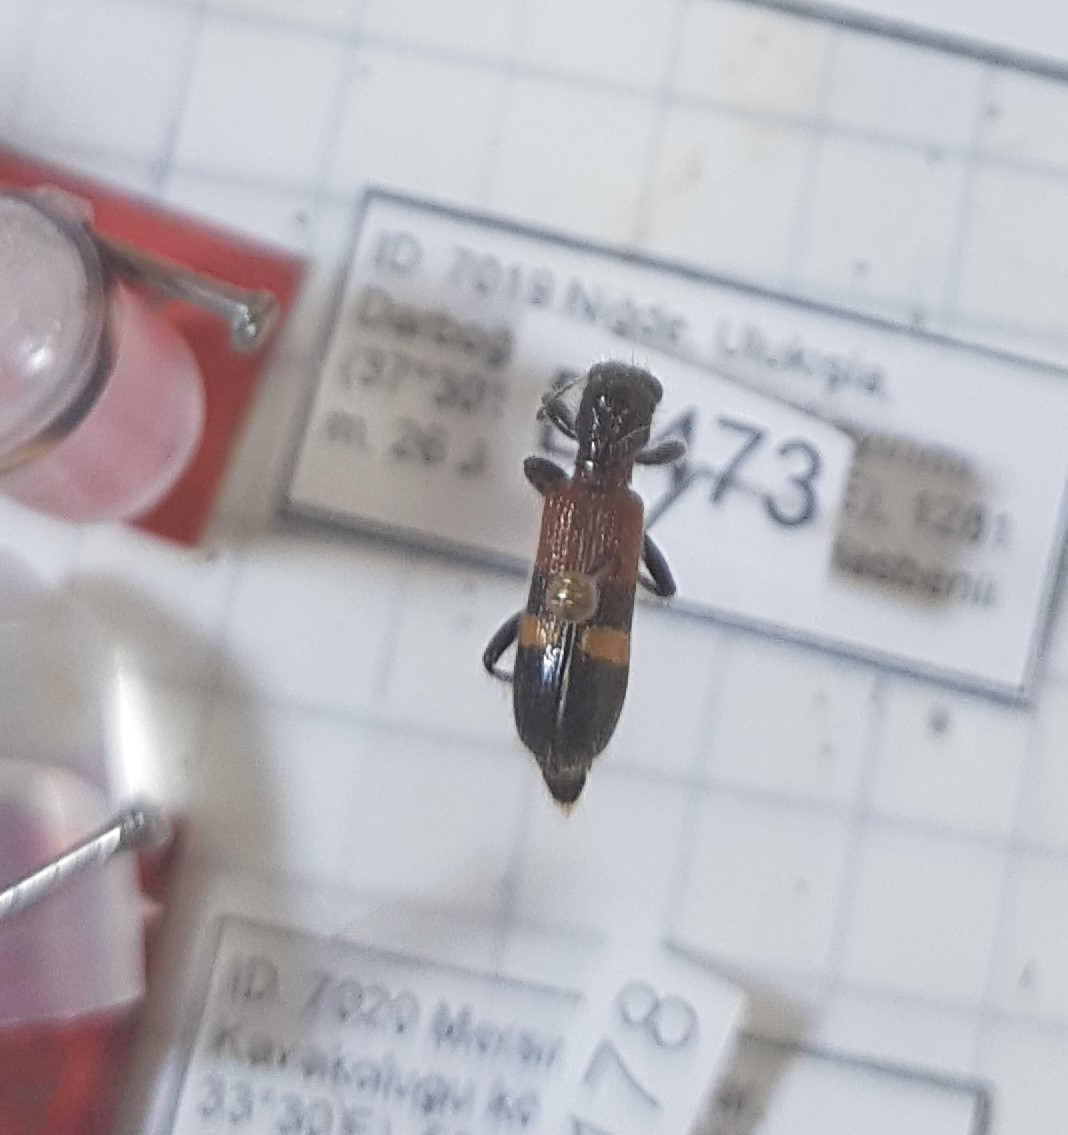opilo_taeniatus: (473, 348, 683, 828)
